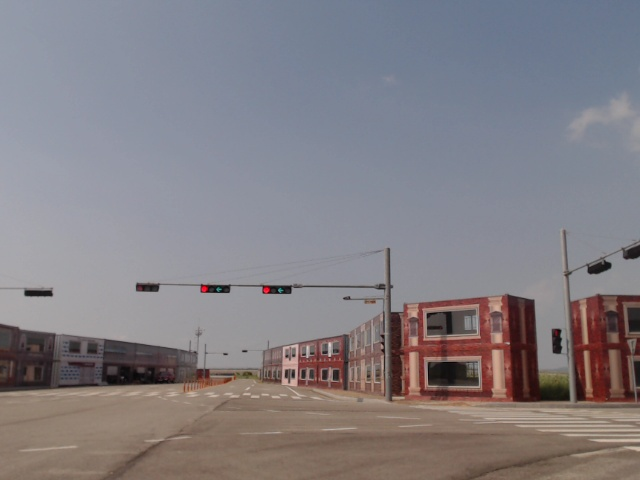left_green_4: (200, 285, 230, 293), (262, 286, 292, 294)
